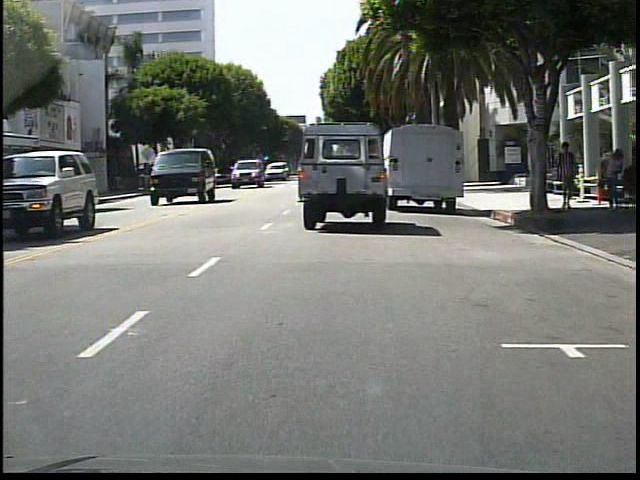person: (557, 140, 581, 211), (603, 148, 624, 212)
